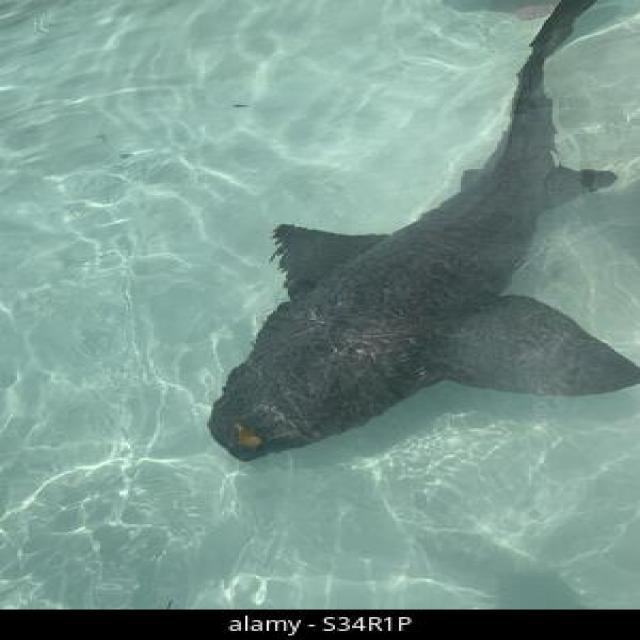Shark: (168, 0, 640, 486)
